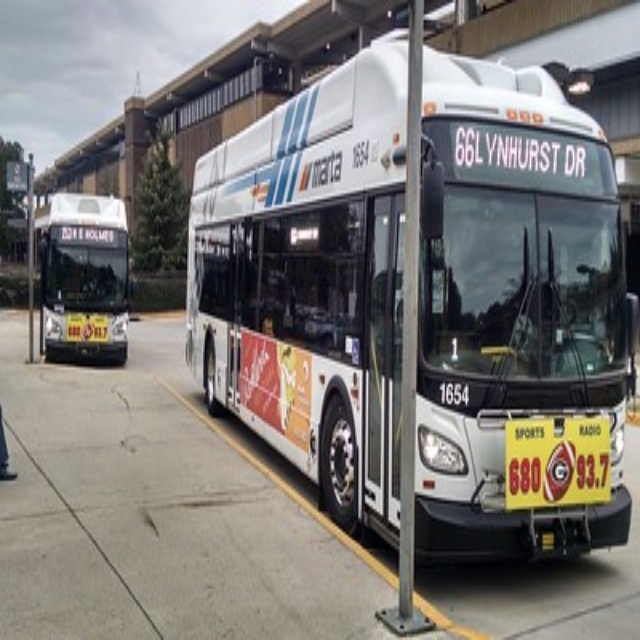Bus: (182, 34, 632, 563), (42, 191, 130, 370)
